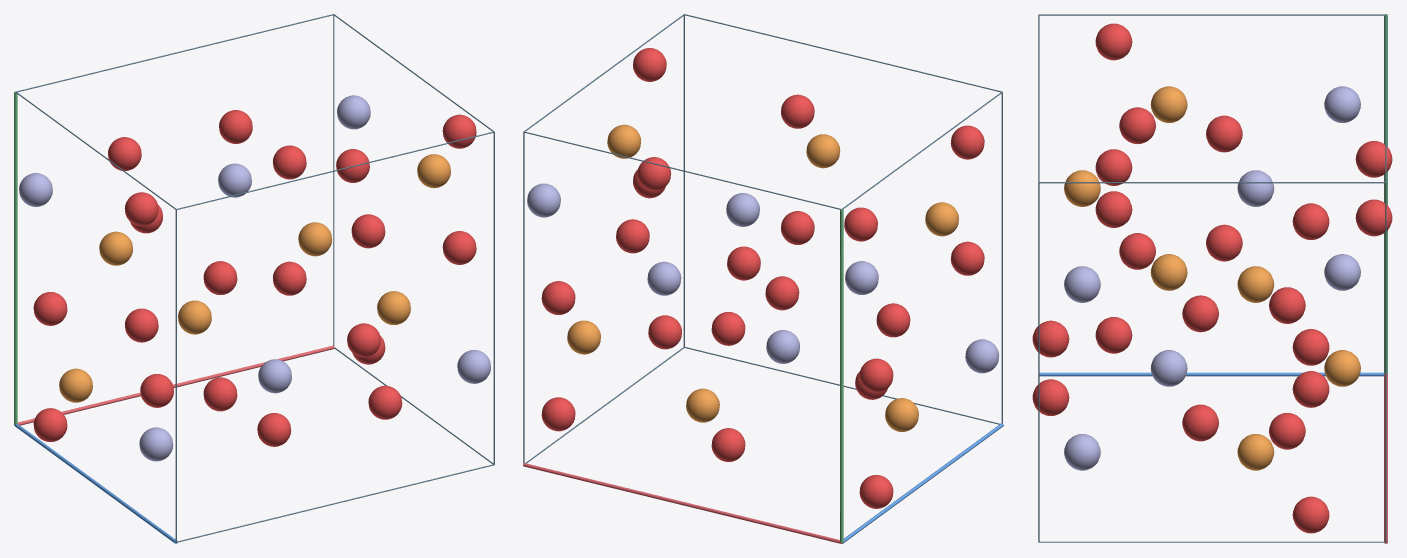
The model's file is xenotime.glb.
3 views of the same model, side by side, from view 1: azimuth 30°, elevation 25°; view 2: azimuth 150°, elevation 25°; view 3: azimuth 270°, elevation 25° (orthographic). The views are drawn at different scales.
Visible parts, largest first — view 1: O · O · 1 (×18), Ô mạng và các trục a, b, c, P · P · 1 (×6), Y · Y · 1 (×6); view 2: O · O · 1 (×18), Ô mạng và các trục a, b, c, Y · Y · 1 (×6), P · P · 1 (×6); view 3: O · O · 1 (×20), Y · Y · 1 (×6), P · P · 1 (×6), Ô mạng và các trục a, b, c.
Part boxes in pixels (x1,y1,x2,y2): O · O · 1 (×18): (33, 110, 476, 446); Ô mạng và các trục a, b, c: (14, 14, 494, 543); P · P · 1 (×6): (59, 154, 450, 402); Y · Y · 1 (×6): (19, 95, 490, 461); O · O · 1 (×18): (541, 48, 984, 508); Ô mạng và các trục a, b, c: (523, 14, 1003, 543); Y · Y · 1 (×6): (527, 183, 999, 373); P · P · 1 (×6): (567, 124, 958, 431); O · O · 1 (×20): (1032, 23, 1392, 533); Y · Y · 1 (×6): (1064, 86, 1360, 470); P · P · 1 (×6): (1064, 86, 1360, 470); Ô mạng và các trục a, b, c: (1038, 14, 1387, 543).
Size of the model in its own units: 7.53 by 6.94 by 6.26.
